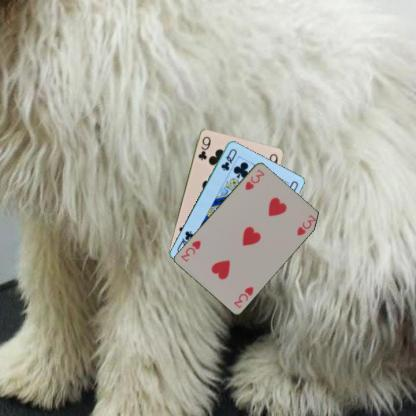3h: (242, 166, 266, 192), (231, 284, 255, 309)
9c: (196, 134, 212, 161)
Qc: (219, 146, 238, 172)
